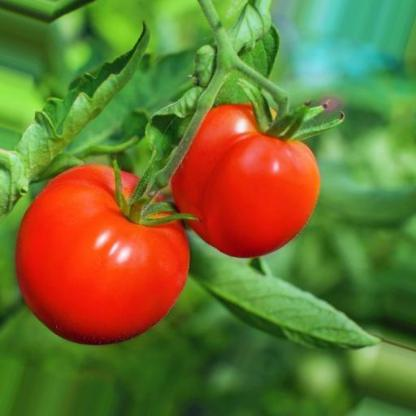tomato: (10, 161, 190, 345), (168, 93, 336, 260)
